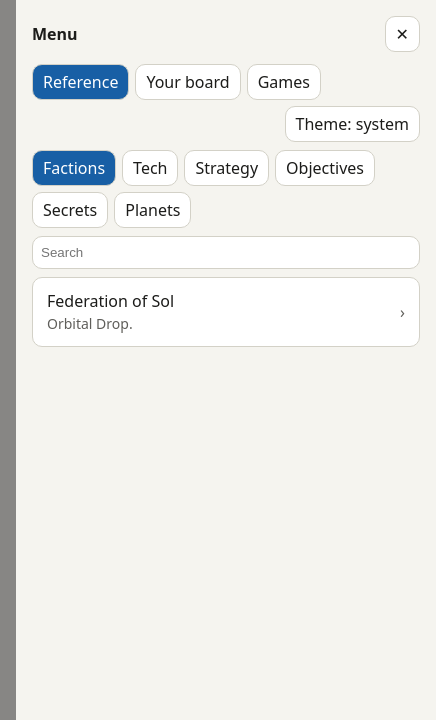
MenuSheet › switches to the Games section
Click the button "Games".
click(284, 82)  # box [247, 64, 321, 100]
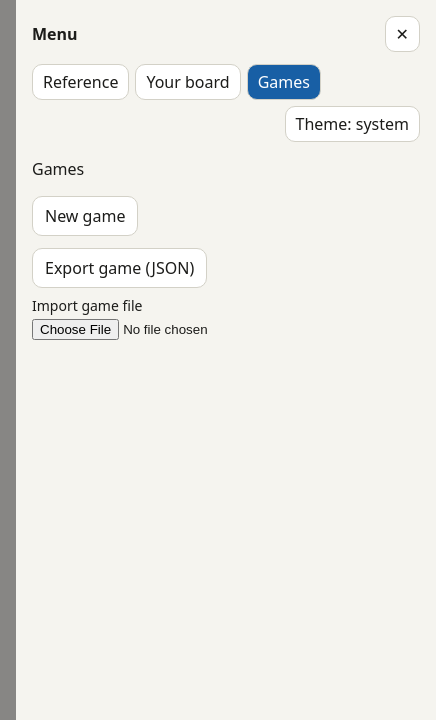
Result: the button "Export game (JSON)" is shown at [32, 248, 207, 288]
